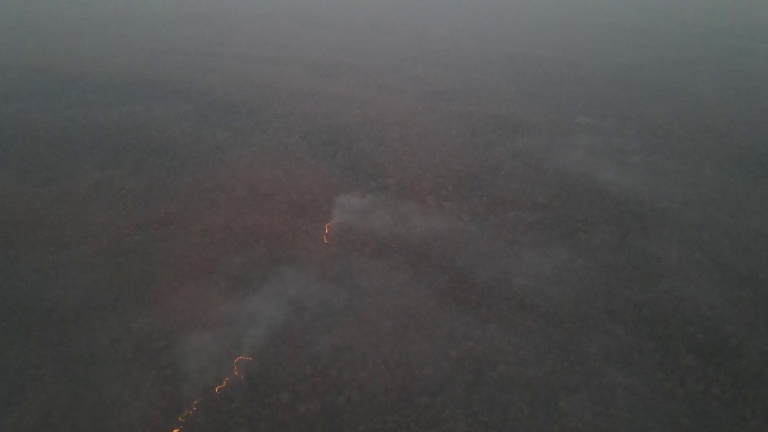fire: (168, 353, 252, 432), (321, 218, 338, 245)
smoke: (180, 265, 322, 398), (327, 190, 428, 240)
